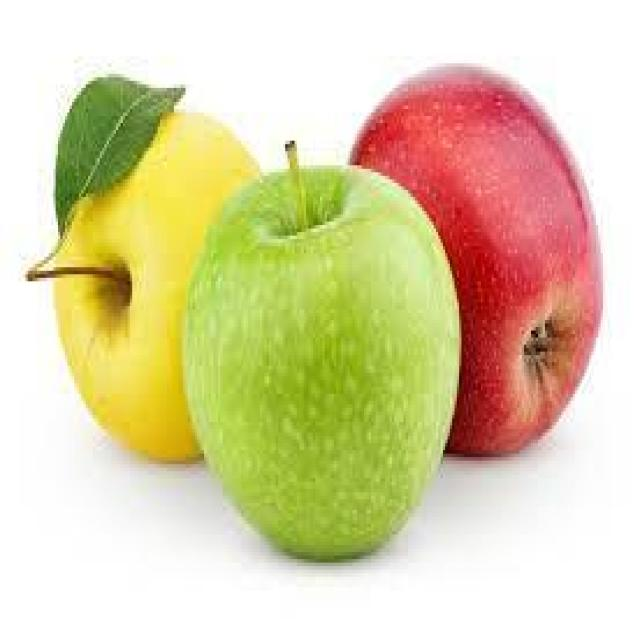maca: (178, 137, 462, 559), (348, 60, 603, 457), (23, 99, 260, 464)
